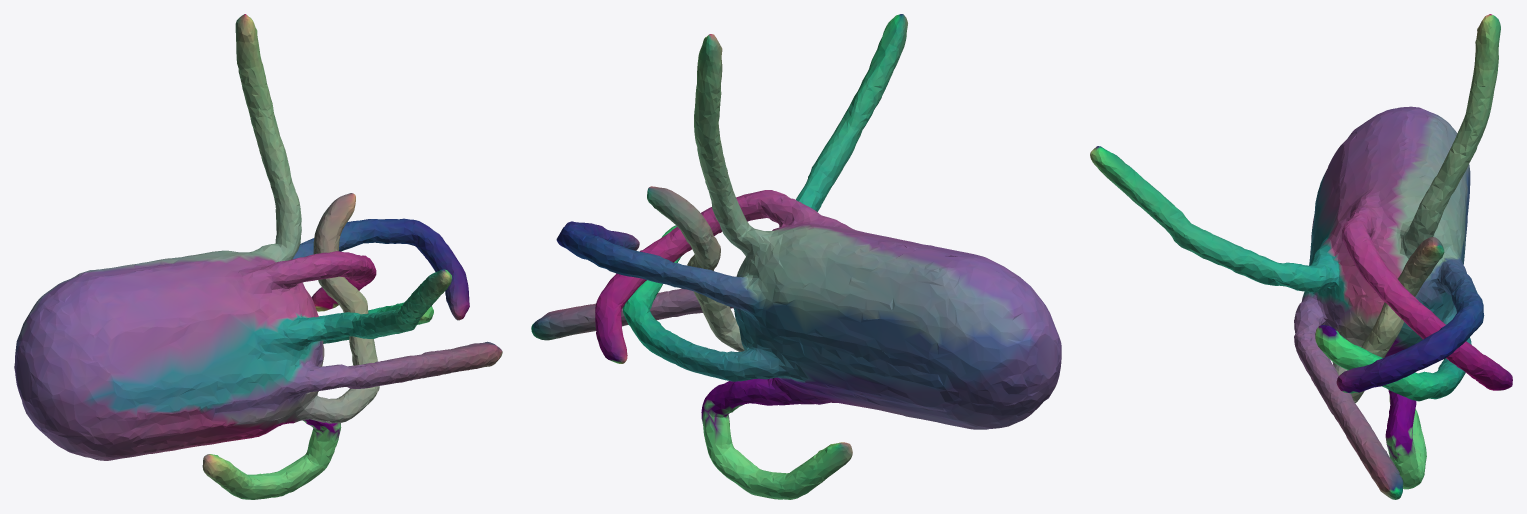
Rendered from octopus-1.off.obj.
3 views of the same model, side by side, from view 1: azimuth 30°, elevation 25°; view 2: azimuth 150°, elevation 25°; view 3: azimuth 270°, elevation 25° (orthographic). The views are drawn at different scales.
Size of the model in its own units: 1.46 by 1.32 by 1.07.
